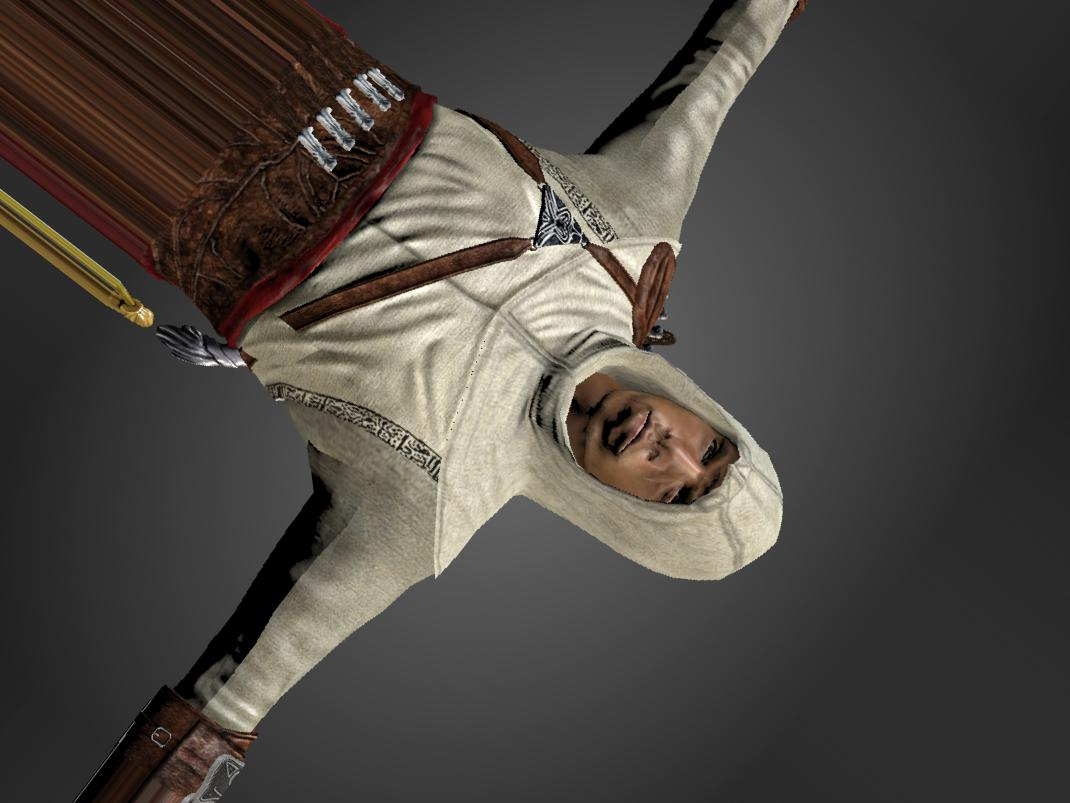clip: (230, 309, 308, 369)
